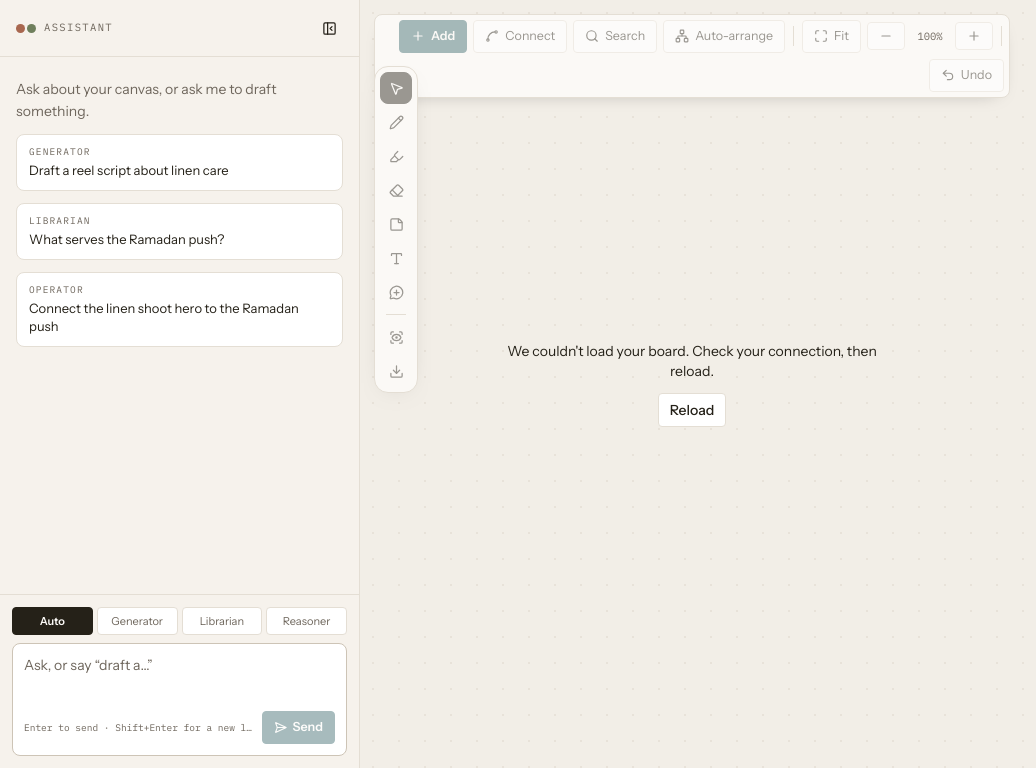
Workspace error, S3 › says the board didn't load, to check the connection, as an alert with a Reload that works
This screenshot has width=1036, height=768.
Expected: the message shows "We couldn't load your board. Check your connection, then reload.", [507,342,877,380]
Click the button "Reload".
click(692, 410)  # box [658,393,726,427]
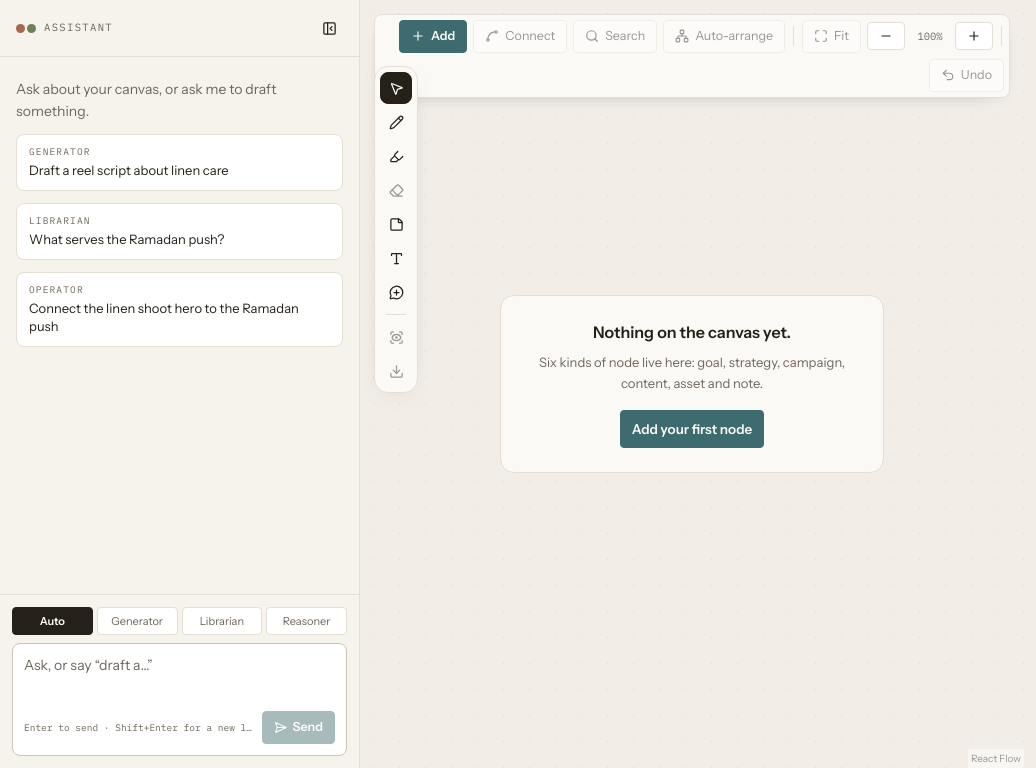
Expected: the heading "Nothing on the canvas yet." is shown, [593,320,791,344]
